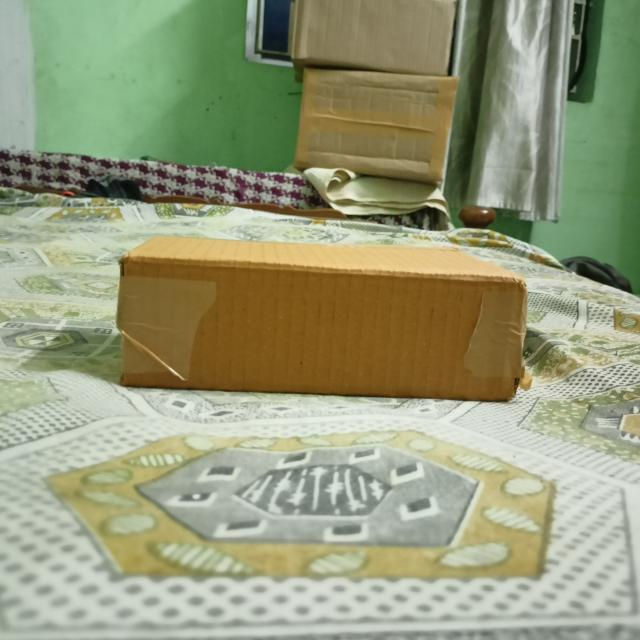box: (123, 259, 526, 406)
